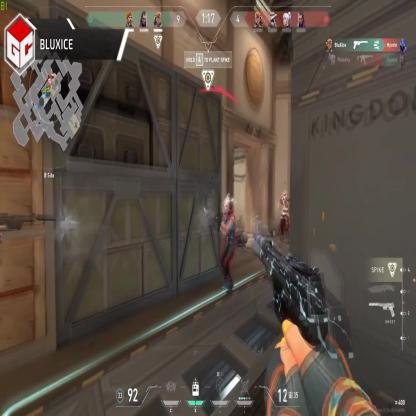enemy: (218, 197, 234, 292), (279, 192, 291, 244)
enemy_head: (223, 196, 231, 214), (282, 190, 288, 203)
